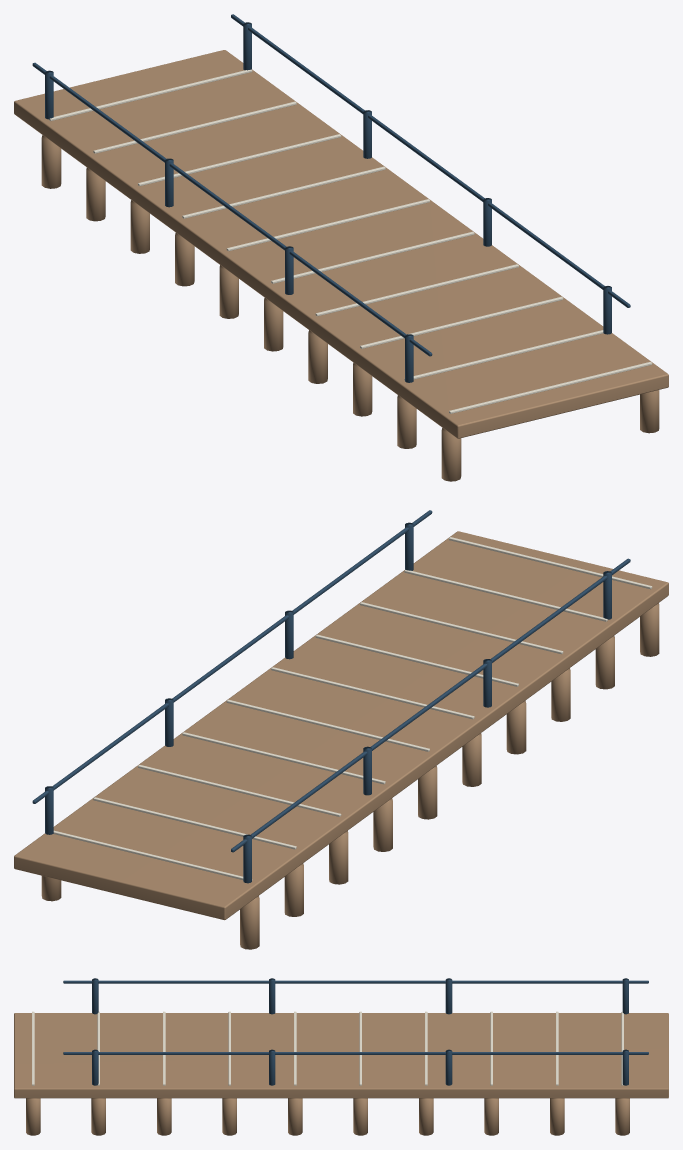
The model's file is HL_Prop_PromenadePier.fbx.
3 renders of one model, top to bottom at view 1: azimuth 30°, elevation 25°; view 2: azimuth 150°, elevation 25°; view 3: azimuth 270°, elevation 25°, orthographic. The views are drawn at different scales.
Parts seen in each view (by area): view 1: Pier | main deck, Pier | rail, Pier | rail.001, Pier | saltwater pylon, Pier | saltwater pylon.018, Pier | saltwater pylon.014, Pier | saltwater pylon.006, Pier | saltwater pylon.010, Pier | saltwater pylon.016, Pier | saltwater pylon.002, Pier | saltwater pylon.012, Pier | saltwater pylon.004 (+12 smaller); view 2: Pier | main deck, Pier | rail.001, Pier | rail, Pier | saltwater pylon.006, Pier | saltwater pylon, Pier | saltwater pylon.010, Pier | saltwater pylon.014, Pier | saltwater pylon.004, Pier | saltwater pylon.018, Pier | saltwater pylon.008, Pier | saltwater pylon.012, Pier | saltwater pylon.002 (+11 smaller); view 3: Pier | main deck, Pier | rail, Pier | rail.001, Pier | saltwater pylon.001, Pier | saltwater pylon.003, Pier | saltwater pylon.005, Pier | saltwater pylon.007, Pier | saltwater pylon.009, Pier | saltwater pylon.011, Pier | saltwater pylon.013, Pier | saltwater pylon.015, Pier | saltwater pylon.017 (+3 smaller).
Boxes of the visible parts, box(x1,y1,x2,y2) form: Pier | main deck: box(14, 50, 668, 438); Pier | rail: box(32, 62, 432, 356); Pier | rail.001: box(231, 14, 630, 307); Pier | saltwater pylon: box(441, 428, 461, 481); Pier | saltwater pylon.018: box(41, 135, 61, 188); Pier | saltwater pylon.014: box(130, 200, 149, 253); Pier | saltwater pylon.006: box(308, 330, 327, 383); Pier | saltwater pylon.010: box(219, 265, 238, 318); Pier | saltwater pylon.016: box(86, 167, 105, 221); Pier | saltwater pylon.002: box(397, 395, 416, 448); Pier | saltwater pylon.012: box(175, 233, 194, 286); Pier | saltwater pylon.004: box(353, 362, 372, 416); Pier | main deck: box(14, 531, 668, 920); Pier | rail.001: box(32, 510, 432, 803); Pier | rail: box(231, 558, 630, 852); Pier | saltwater pylon.006: box(506, 700, 526, 754); Pier | saltwater pylon: box(640, 603, 659, 656); Pier | saltwater pylon.010: box(418, 766, 437, 819); Pier | saltwater pylon.014: box(329, 830, 348, 884); Pier | saltwater pylon.004: box(551, 668, 570, 721); Pier | saltwater pylon.018: box(240, 896, 259, 949); Pier | saltwater pylon.008: box(462, 733, 481, 786); Pier | saltwater pylon.012: box(373, 798, 392, 851); Pier | saltwater pylon.002: box(595, 635, 614, 689); Pier | main deck: box(14, 1013, 668, 1098); Pier | rail: box(63, 980, 648, 983); Pier | rail.001: box(63, 1052, 648, 1054); Pier | saltwater pylon.001: box(26, 1098, 40, 1135); Pier | saltwater pylon.003: box(91, 1098, 105, 1135); Pier | saltwater pylon.005: box(157, 1098, 171, 1135); Pier | saltwater pylon.007: box(222, 1098, 236, 1135); Pier | saltwater pylon.009: box(288, 1098, 302, 1135); Pier | saltwater pylon.011: box(353, 1098, 367, 1135); Pier | saltwater pylon.013: box(419, 1098, 433, 1135); Pier | saltwater pylon.015: box(484, 1098, 498, 1135); Pier | saltwater pylon.017: box(550, 1098, 564, 1135).
Size of the model in its own units: 474 by 234 by 1700.
